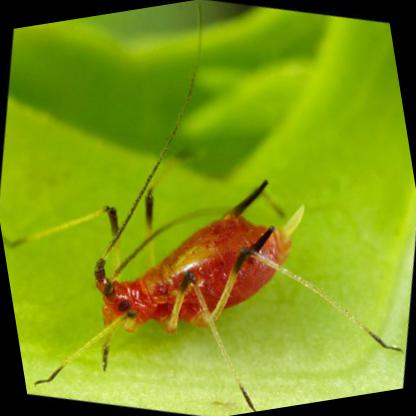uroleucon compositae: (91, 179, 369, 384)
